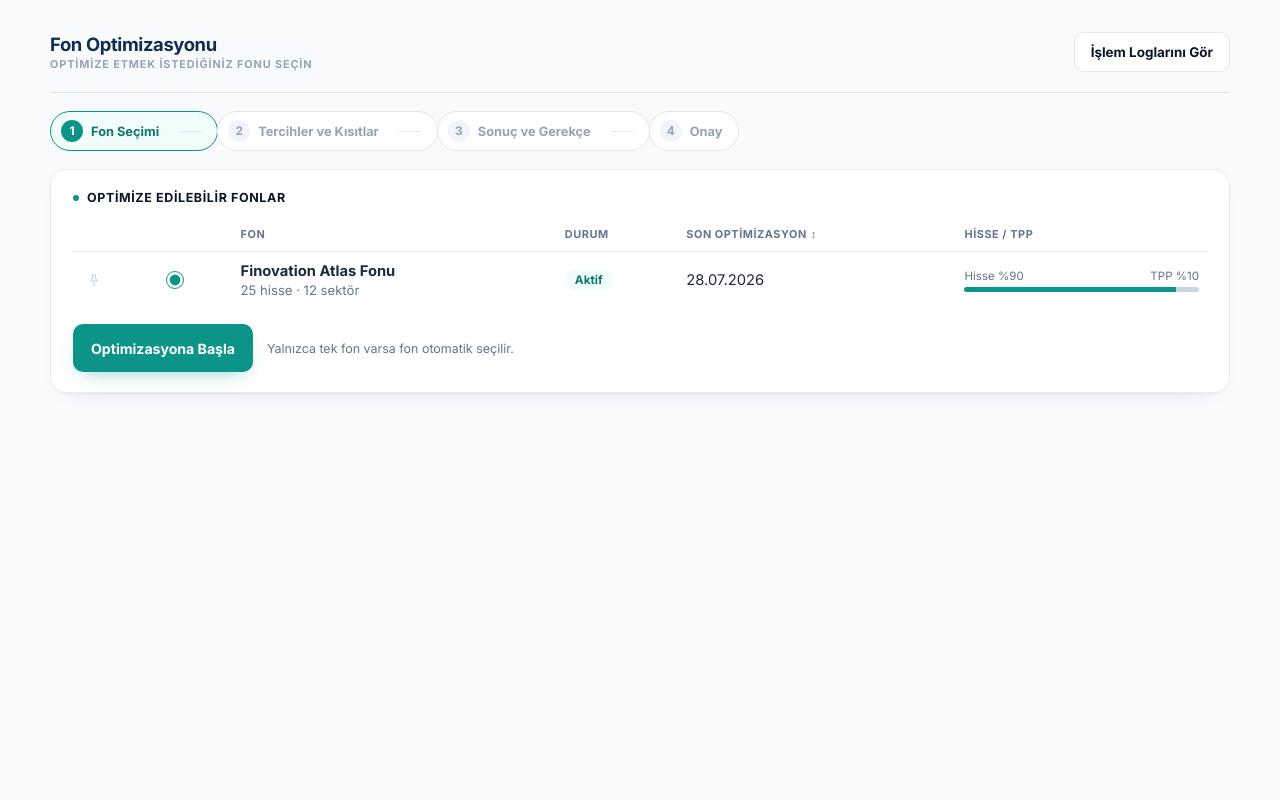
OptimizationFormPage › 1. adımda fonu listeler, devam edince 2. adıma geçip pozisyonları gösterir
Check: the text "Finovation Atlas Fonu" is shown, box [241,262,395,280]
What coordinates should you click on to do the following:
click the button "Optimizasyona Başla"
I would click on:
 (163, 348)
Its box is [73,324,253,372].
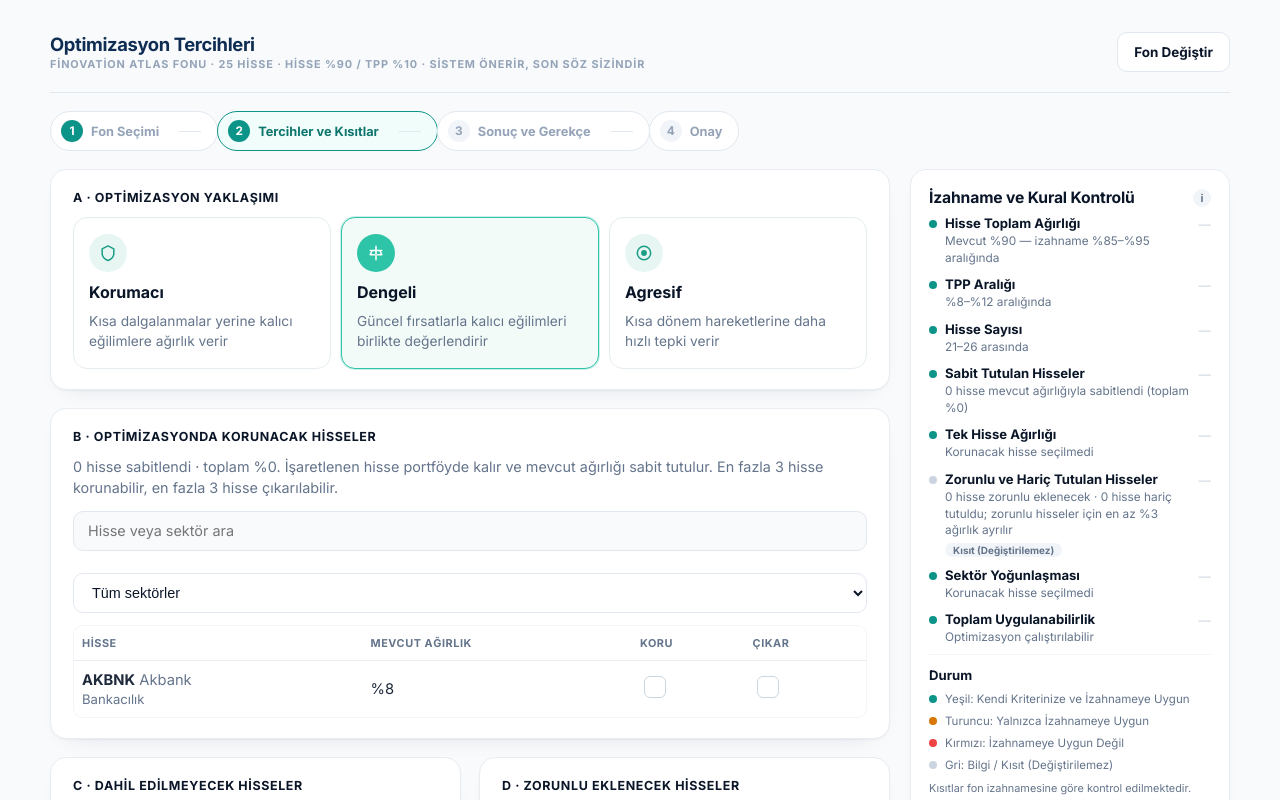
Check: the text "AKBNK" is shown, box [82,671,135,689]
Check: the text "Akbank" is shown, box [139,671,192,689]
